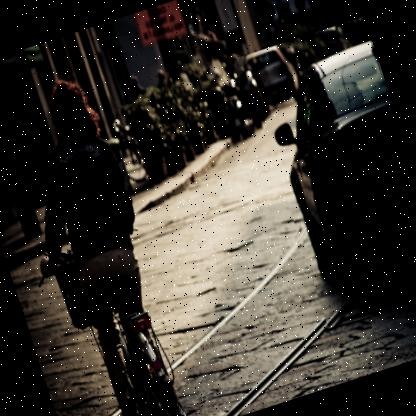Car: (240, 16, 415, 330)
